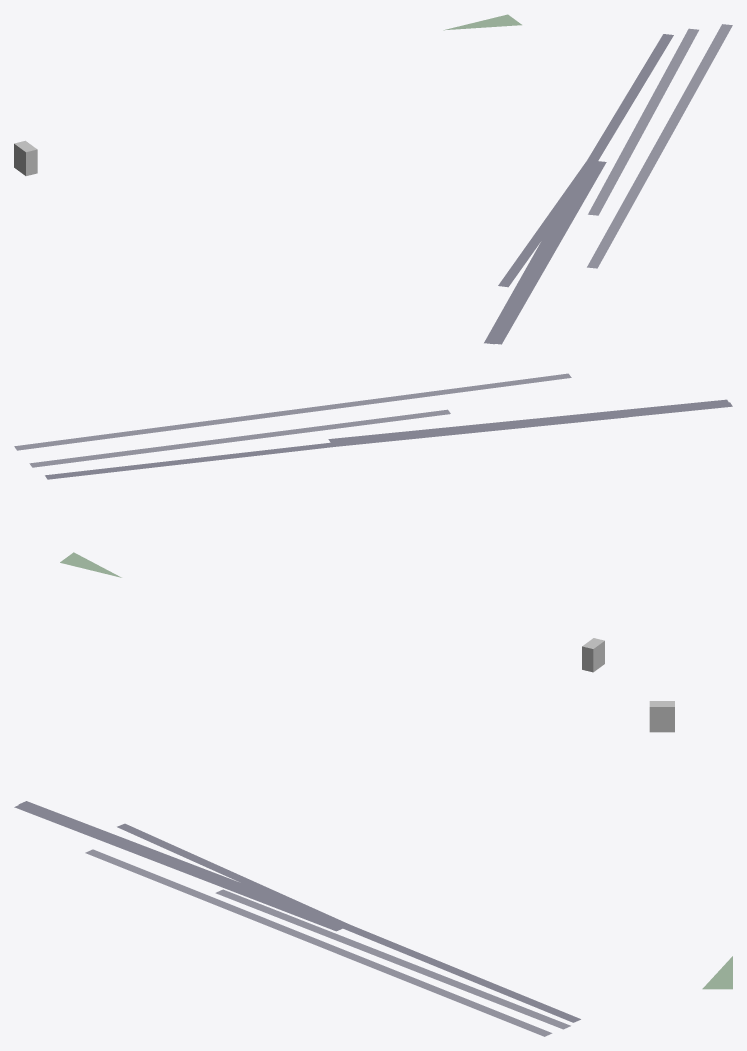
Rendered from 130_85_mid.glb.
3 views of the same model, one above another, from view 1: azimuth 30°, elevation 25°; view 2: azimuth 150°, elevation 25°; view 3: azimuth 270°, elevation 25° (orthographic). The views are drawn at different scales.
Bounding box in the file's own units: 614 × 25.78 × 550.
